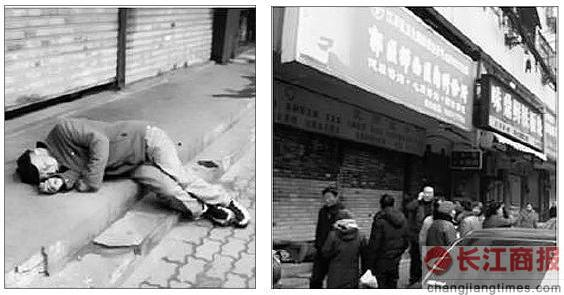10+: (272, 178, 563, 294)
down: (11, 109, 253, 233)
